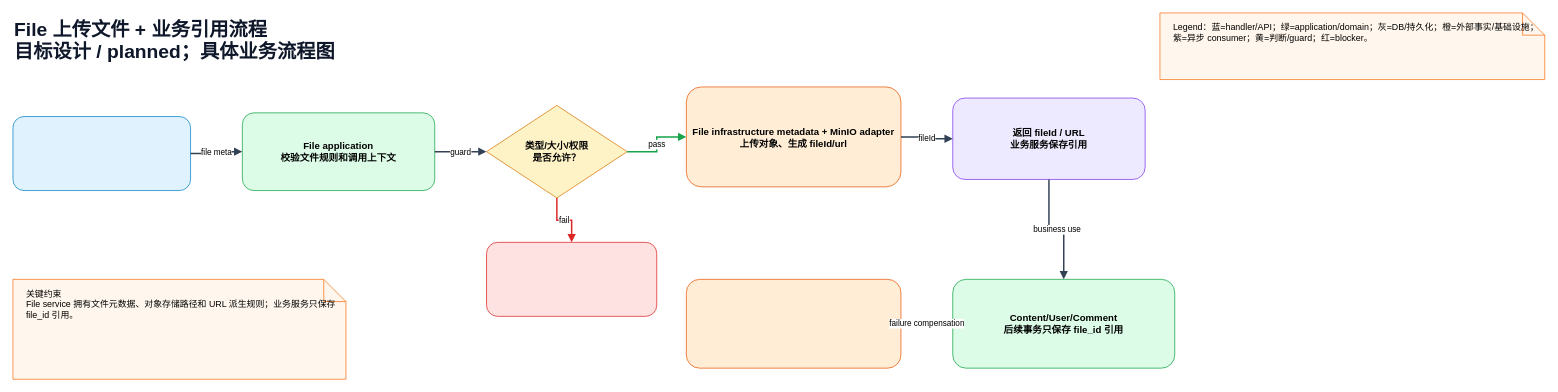
Image size: 1558x392. Some labels were removed from this diagram. The centre of each missing label's shape, as x and y in pixels:
"blocked 非法类型/超限/无权限 不写对象存储" goes at (571,279).
"POST /files Handler 解析 multipart file/type/ownerHint" goes at (101,153).
"业务失败补偿 可异步删除临时文件 不进入 Comment/Post 聚合" goes at (793,323).
